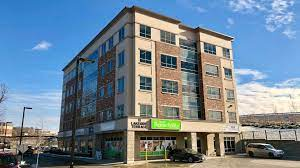Building House: (59, 12, 241, 147)
